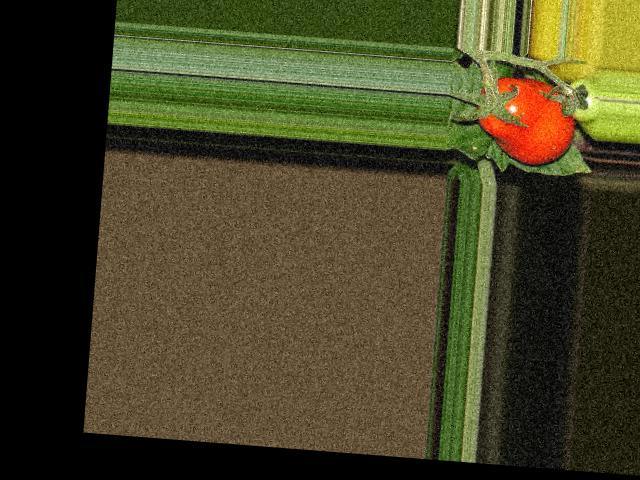tomato: (473, 75, 577, 167)
